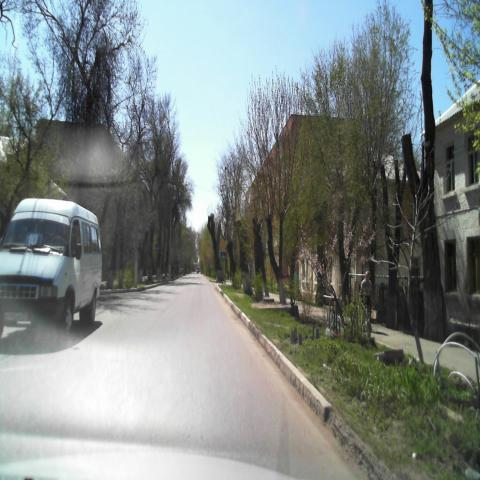2_1: (220, 238, 226, 252)
5_19_1: (220, 251, 226, 260), (155, 241, 159, 250)
